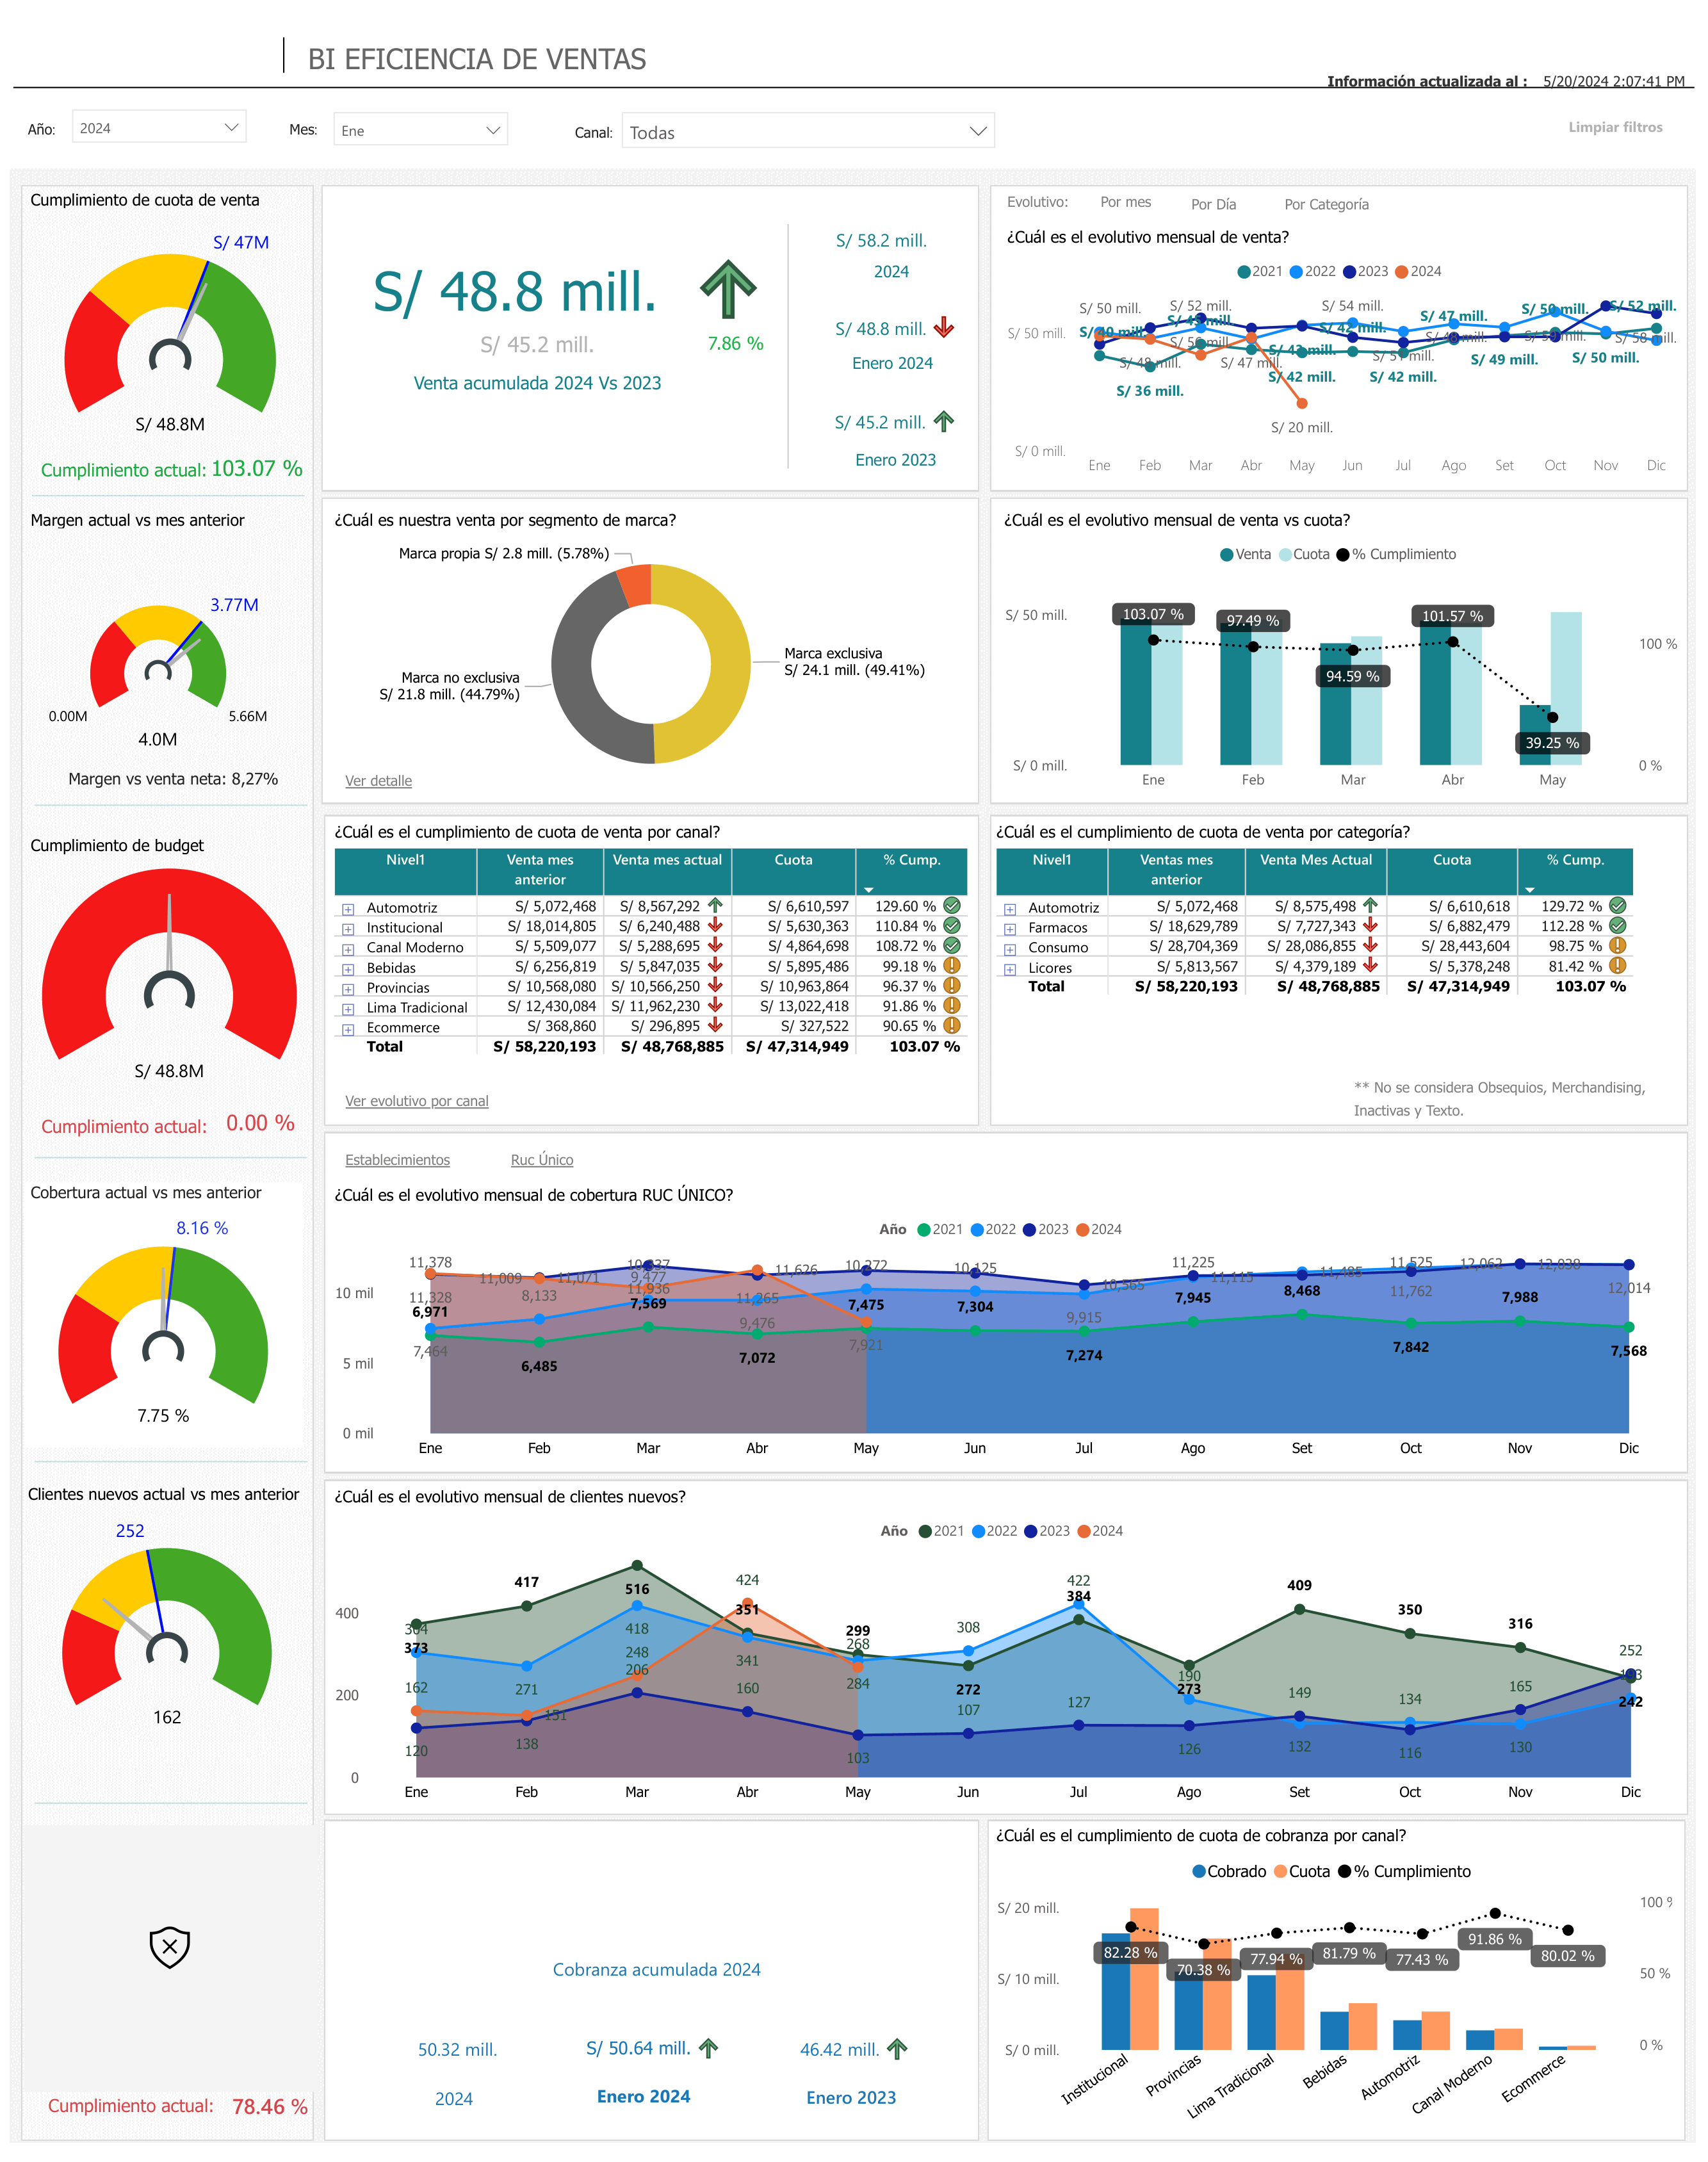

What the dashboard file says about the page in this screenshot:
{"tool":"powerbi","page":{"name":"BI eficiencia de ventas","canvas":[1280,1600],"ordinal":0},"visuals":[{"type":"card","fields":{"Values":["MedidasVentas.% Variacion Acum Año"]},"box":[508.6,223.4,87.2,51.1],"z":0},{"type":"donutChart","title":"¿Cuál es nuestra venta por segmento de marca?","fields":{"Category":["DimArticulo.Tipo Linea"],"Y":["MedidasVentas.Venta"]},"box":[245.6,372.6,484.1,215.9],"z":1000},{"type":"card","fields":{"Values":["MedidasVentas.AcumuladoHace1Año"]},"box":[332.4,229.3,142,40],"z":2000},{"type":"basicShape","box":[554.3,149,73.4,203.2],"z":3000},{"type":"Tachometer1474636471549","title":"Margen actual vs mes anterior","fields":{"EndValue":["MedidasMargen.End value_Vmargen"],"Range2StartValue":["MedidasMargen.Franja1_Vmargen"],"Range3StartValue":["MedidasMargen.Franja2_Vmargen"],"Y":["MedidasMargen.Margen"],"TargetValue":["MedidasMargen.Margen mes anterior"]},"box":[17,372.4,208.5,199],"z":4000},{"type":"textbox","box":[820.3,126.7,67,33],"z":5000},{"type":"shape","box":[217.8,362.4,12.9,213.9],"z":6000},{"type":"textbox","box":[957.6,127.7,117,33],"z":7000},{"type":"textbox","box":[887.4,127.7,61.7,33],"z":8000},{"type":"areaChart","title":"¿Cuál es el evolutivo mensual de venta?","fields":{"Category":["DimCalendario.Mes text","DimCalendario.Date.Variación.Jerarquía de fechas.Día1"],"Series":["DimCalendario.Año"],"Y":["MedidasVentas.Venta"]},"box":[749.1,160.7,511.8,195.8],"z":9000},{"type":"basicShape","box":[0,38.8,1280,35.2],"z":10000},{"type":"Tachometer5514746364715412990001","title":"Cumplimiento de cuota de cobranza","fields":{"TargetValue":["MedidasCobranza.Cuota cobranza"],"Y":["MedidasCobranza.Cobrado2"],"EndValue":["MedidasCobranza.End value_Vcuotacobranza"],"Range2StartValue":["MedidasCobranza.Franja1_CCOBRANZA_FC"],"Range3StartValue":["MedidasCobranza.Franja2_CCOBRANZA_FC"]},"box":[18.1,1358.7,220.2,200],"z":11000},{"type":"card","fields":{"Values":["MedidasTiempo.Año Actual cobranza"]},"box":[296.4,1444.3,393,48.6],"z":12000},{"type":"Tachometer1474636471549","title":"Cumplimiento de cuota de venta","fields":{"Y":["MedidasVentas.Venta"],"TargetValue":["MedidasVentas.Cuota Venta"],"EndValue":["MedidasVentas.End value"],"Range2StartValue":["MedidasVentas.Franja1_Vcuota"],"Range3StartValue":["MedidasVentas.Franja2_Vcuota"]},"box":[17,131.9,219.2,200],"z":13000},{"type":"textbox","box":[226.9,15.8,503.5,52.2],"z":15000},{"type":"shape","box":[820.3,122.4,56.4,38.3],"z":16000},{"type":"shape","box":[954.4,123.4,92.6,40.4],"z":17000},{"type":"tableEx","title":"Monto Cobrado","fields":{"Values":["MedidasVentas.Ventas mes actual"]},"box":[605.4,198,125,65.5],"z":18000},{"type":"tableEx","title":"Monto Cobrado","fields":{"Values":["MedidasVentas.Ventas mes anterior"]},"box":[586,132.2,134.7,65.5],"z":19000},{"type":"tableEx","title":"Monto Cobrado","fields":{"Values":["MedidasVentas.VentaMesHace1Año"]},"box":[592.1,268.1,138.3,75.2],"z":20000},{"type":"lineClusteredColumnComboChart","title":"¿Cuál es el cumplimiento de cuota de cobranza por canal?","fields":{"Category":["DimAgenteZona.Nivel1","DimAgenteZona.Nivel2"],"Y":["MedidasCobranza.Cobrado2","MedidasCobranza.Cuota cobranza"],"Y2":["MedidasCobranza.% CumplimientoCuotaCobranza"]},"box":[742.7,1358.7,516,233],"z":21000},{"type":"areaChart","title":"¿Cuál es el evolutivo mensual de clientes nuevos?","fields":{"Category":["DimCalendario.Mes text","DimCalendario.Date.Variación.Jerarquía de fechas.Día"],"Series":["DimCalendario.Año"],"Y":["MedidasClientes.ClientesNuevos"]},"box":[246.8,1103.5,1014.5,245.4],"z":23000},{"type":"Tachometer1474636471549","title":"Clientes nuevos actual vs mes anterior","fields":{"Y":["MedidasClientes.ClientesNuevos"],"EndValue":["MedidasClientes.End value_Vclientesnuevos"],"TargetValue":["MedidasClientes.ClientesNuevos mes anterior"],"Range2StartValue":["MedidasClientes.Franja1_Vclientesnuevos"],"Range3StartValue":["MedidasClientes.Franja2_Vclientesnuevos"]},"box":[17,1102.9,218.4,199],"z":24000},{"type":"tableEx","title":"Monto Cobrado","fields":{"Values":["MedidasCobranza.Cobrado2"]},"box":[427.1,1487.5,125,61.5],"z":25000},{"type":"tableEx","title":"Monto Cobrado","fields":{"Values":["MedidasCobranza.Cobrado mes anterior"]},"box":[277.9,1487.1,108.5,61.7],"z":26000},{"type":"tableEx","title":"Monto Cobrado","fields":{"Values":["MedidasCobranza.CobradoMesHace1AñoF"]},"box":[565.4,1487.1,132.2,63.1],"z":27000},{"type":"tableEx","title":"Monto Cobrado","fields":{"Values":["MedidasVentas.Ventas YTD CBH"]},"box":[244.1,150.2,387,89.8],"z":28000},{"type":"tableEx","fields":{"Values":["MedidasCobranza.Cobrado YTD"]},"box":[292.6,1359.9,405.8,108.8],"z":29000},{"type":"card","fields":{"Values":["MedidasTiempo.Mes actual"]},"box":[605.4,244.1,126.2,41.3],"z":30000},{"type":"card","fields":{"Values":["MedidasTiempo.Mes anterior"]},"box":[604.2,179.6,125,31.5],"z":31000},{"type":"card","fields":{"Values":["MedidasTiempo.Mes actual - 1 año"]},"box":[613.9,321.5,115.3,30.3],"z":32000},{"type":"card","fields":{"Values":["MedidasTiempo.Mes actual"]},"box":[419.8,1542.7,125,42.7],"z":33000},{"type":"card","fields":{"Values":["MedidasTiempo.Mes anterior"]},"box":[270.4,1549.9,137.3,29.8],"z":34000},{"type":"card","fields":{"Values":["MedidasTiempo.Mes actual - 1 año"]},"box":[564.9,1548.2,148.5,32],"z":35000},{"type":"card","fields":{"Values":["MedidasVentas.Tex cum ven act Rep"]},"box":[11.5,321.4,162.6,44.9],"z":36000},{"type":"card","fields":{"Values":["MedidasVentas.% Cump cuota de venta"]},"box":[142.7,311.6,101.3,61.4],"z":37000},{"type":"lineClusteredColumnComboChart","title":"¿Cuál es el evolutivo mensual de venta vs cuota?","fields":{"Category":["DimCalendario.Mes text"],"Y":["MedidasVentas.Venta","MedidasVentas.Cuota Venta SeleRepre"],"Y2":["MedidasVentas.% Cump cuota de venta"]},"box":[747.4,371.3,514.4,219.6],"z":38000},{"type":"card","fields":{"Values":["MedidasCobranza.Tex cum ccobranza_fc"]},"box":[19.6,1557,157.1,28.4],"z":39000},{"type":"card","fields":{"Values":["MedidasCobranza.% CumplimientoCuotaCobranza"]},"box":[152.4,1539.4,101.6,61],"z":40000},{"type":"image","box":[1.2,1.2,217.2,54.6],"z":41000},{"type":"pivotTable","title":"¿Cuál es el cumplimiento de cuota de venta por categoría?","fields":{"Rows":["DimArticulo.Nivel1","DimArticulo.Nivel2","DimArticulo.Nivel3","DimArticulo.Nivel4","DimArticulo.Nivel5","DimArticulo.Nivel6"],"Values":["MedidasVentas.Ventas mes anteriorF","MedidasVentas.Venta","MedidasVentas.Cuota Venta","MedidasVentas.% Cump cuota de venta"]},"box":[741.6,605.4,519.2,185.1],"z":42000},{"type":"basicShape","box":[14.9,344.7,224.5,35.1],"z":43000},{"type":"basicShape","box":[16,576.7,224.5,35.1],"z":44000},{"type":"basicShape","box":[15.3,839.5,224.1,35.3],"z":45000},{"type":"basicShape","box":[15.1,1069,224.5,35.1],"z":46000},{"type":"basicShape","box":[16.1,1324.3,224.5,35.1],"z":47000},{"type":"slicer","fields":{"Values":["DimCalendario.Año"]},"box":[43.6,62.8,151.1,51.1],"z":48000},{"type":"slicer","fields":{"Values":["DimCalendario.Last Business Date"]},"box":[240.5,63.8,151.1,50],"z":49000},{"type":"textbox","box":[1151.3,70.2,118.1,33],"z":50000},{"type":"basicShape","box":[176.4,8.5,73.4,46.6],"z":51000},{"type":"textbox","box":[16,71.4,58.5,31.9],"z":52000},{"type":"textbox","box":[212.8,71.4,58.5,31.9],"z":53000},{"type":"textbox","box":[253.2,800.1,138.3,31.9],"z":54000},{"type":"textbox","box":[253.2,843.8,103.2,31.9],"z":55000},{"type":"textbox","box":[378.9,843.2,103.3,33.1],"z":56000},{"type":"shape","box":[243.9,839.1,113,35.8],"z":57000},{"type":"areaChart","title":"¿Cuál es el evolutivo mensual de cobertura RUC ÚNICO?","fields":{"Category":["DimCalendario.Mes text","DimCalendario.Date.Variación.Jerarquía de fechas.Día"],"Series":["DimCalendario.Año"],"Y":["MedidasClientes.Cobertura Ruc Unico"]},"box":[246.6,877.7,1012.7,213.6],"z":58000},{"type":"shape","box":[361.6,843.2,112.8,36.4],"z":59000},{"type":"shape","box":[886.3,117,52.1,42.6],"z":61000},{"type":"textbox","box":[749.1,126.7,71.3,33],"z":62000},{"type":"card","fields":{"Values":["MedidasMargen.% Margen"]},"box":[34.7,556.4,192.1,39.6],"z":63000},{"type":"shape","box":[1115.1,68.1,154.3,35.1],"z":64000},{"type":"pivotTable","title":"¿Cuál es el cumplimiento de cuota de venta por canal?","fields":{"Rows":["DimZonaAgente.Nivel1","DimZonaAgente.Nivel2","DimZonaAgente.Nivel3","DimZonaAgente.Nivel4"],"Values":["MedidasVentas.Ventas mes anteriorF","MedidasVentas.Venta","MedidasVentas.Cuota Venta","MedidasVentas.% Cump cuota de venta"]},"box":[247,605.4,489.7,184.9],"z":65000},{"type":"Tachometer1474636471549","title":"Cobertura actual vs mes anterior","fields":{"Y":["MedidasClientes.% cobertura x zona"],"TargetValue":["MedidasClientes.Cobertura mes anterior"],"Range2StartValue":["MedidasClientes.Franja1_Vcobertura"],"Range3StartValue":["MedidasClientes.Franja2_Vcobertura"]},"box":[17,876,208.7,199],"z":66000},{"type":"card","fields":{"Values":["MedidasTiempo.Año Actual"]},"box":[252.4,249.9,302.1,58.2],"z":67000},{"type":"Tachometer1474636471549","title":"Cumplimiento de budget","fields":{"Y":["MedidasVentas.Venta"],"TargetValue":["MedidasVentas.Budget"],"EndValue":["MedidasVentas.End value Budget"],"Range2StartValue":["MedidasVentas.Franja1 Budget"],"Range3StartValue":["MedidasVentas.Franja 2 Budget"]},"box":[17,615.4,217.9,201.1],"z":68000},{"type":"card","fields":{"Values":["MedidasVentas.Tex cum ven act Rep"]},"box":[11.5,813.4,162.7,44.5],"z":69000},{"type":"card","fields":{"Values":["MedidasVentas.% Cump de budget"]},"box":[143.9,803,103,62.1],"z":70000},{"type":"textbox","box":[1010.6,790.8,269.4,50.9],"z":71000},{"type":"shape","box":[244.7,794.8,154.3,35.1],"z":72000},{"type":"textbox","box":[253.2,559.7,138.3,31.9],"z":73000},{"type":"shape","box":[244.1,554.6,155.2,33.9],"z":74000},{"type":"shape","box":[705.9,133.7,22.8,233.7],"z":75000},{"type":"shape","box":[713.5,1350,21.9,236.5],"z":76000},{"type":"slicer","fields":{"Values":["DimZonaAgente.Nivel1","DimZonaAgente.Nivel2","DimZonaAgente.Nivel3","DimZonaAgente.Nivel4"]},"box":[455.4,63.4,300,43.6],"z":77000},{"type":"textbox","box":[425.7,73.3,58.4,31.7],"z":78000},{"type":"textbox","box":[990,35.2,163.8,52.2],"z":79000},{"type":"card","fields":{"Values":["Min(FechaRefresh.Column1)"]},"box":[1142.9,35.2,135.9,35.2],"z":80000}]}

Visuals, with their boxes in screenshot pixels (x1, y1, x2, y2), scaled from the page's 1280x1600 canvas onto the 1708x2162 screenshot:
card - MedidasVentas.% Variacion Acum Año: bbox=(679, 302, 795, 371)
"¿Cuál es nuestra venta por segmento de marca?" donutChart: bbox=(328, 503, 973, 795)
card - MedidasVentas.AcumuladoHace1Año: bbox=(444, 310, 633, 364)
basicShape: bbox=(740, 201, 838, 476)
"Margen actual vs mes anterior" Tachometer1474636471549: bbox=(22, 503, 301, 772)
textbox: bbox=(1094, 171, 1184, 216)
shape: bbox=(291, 490, 308, 779)
textbox: bbox=(1278, 172, 1434, 217)
textbox: bbox=(1184, 172, 1267, 217)
"¿Cuál es el evolutivo mensual de venta?" areaChart: bbox=(1000, 217, 1682, 482)
basicShape: bbox=(0, 53, 1707, 100)
"Cumplimiento de cuota de cobranza" Tachometer5514746364715412990001: bbox=(24, 1836, 318, 2106)
card - MedidasTiempo.Año Actual cobranza: bbox=(396, 1951, 920, 2017)
"Cumplimiento de cuota de venta" Tachometer1474636471549: bbox=(22, 178, 315, 448)
textbox: bbox=(303, 21, 975, 92)
shape: bbox=(1094, 165, 1170, 217)
shape: bbox=(1274, 167, 1397, 222)
"Monto Cobrado" tableEx: bbox=(808, 268, 975, 356)
"Monto Cobrado" tableEx: bbox=(782, 179, 962, 267)
"Monto Cobrado" tableEx: bbox=(790, 362, 975, 464)
"¿Cuál es el cumplimiento de cuota de cobranza por canal?" lineClusteredColumnComboChart: bbox=(991, 1836, 1680, 2150)
"¿Cuál es el evolutivo mensual de clientes nuevos?" areaChart: bbox=(329, 1491, 1683, 1823)
"Clientes nuevos actual vs mes anterior" Tachometer1474636471549: bbox=(22, 1490, 314, 1759)
"Monto Cobrado" tableEx: bbox=(570, 2010, 736, 2093)
"Monto Cobrado" tableEx: bbox=(371, 2010, 516, 2093)
"Monto Cobrado" tableEx: bbox=(754, 2010, 931, 2095)
"Monto Cobrado" tableEx: bbox=(326, 203, 842, 324)
tableEx - MedidasCobranza.Cobrado YTD: bbox=(391, 1837, 932, 1985)
card - MedidasTiempo.Mes actual: bbox=(808, 330, 976, 386)
card - MedidasTiempo.Mes anterior: bbox=(806, 243, 973, 285)
card - MedidasTiempo.Mes actual - 1 año: bbox=(819, 434, 973, 475)
card - MedidasTiempo.Mes actual: bbox=(560, 2085, 727, 2142)
card - MedidasTiempo.Mes anterior: bbox=(361, 2094, 544, 2134)
card - MedidasTiempo.Mes actual - 1 año: bbox=(754, 2092, 952, 2135)
card - MedidasVentas.Tex cum ven act Rep: bbox=(15, 434, 232, 495)
card - MedidasVentas.% Cump cuota de venta: bbox=(190, 421, 325, 504)
"¿Cuál es el evolutivo mensual de venta vs cuota?" lineClusteredColumnComboChart: bbox=(997, 501, 1684, 799)
card - MedidasCobranza.Tex cum ccobranza_fc: bbox=(26, 2104, 236, 2142)
card - MedidasCobranza.% CumplimientoCuotaCobranza: bbox=(204, 2080, 339, 2161)
image: bbox=(2, 2, 291, 76)
"¿Cuál es el cumplimiento de cuota de venta por categoría?" pivotTable: bbox=(989, 818, 1682, 1068)
basicShape: bbox=(20, 466, 320, 513)
basicShape: bbox=(21, 779, 321, 827)
basicShape: bbox=(20, 1134, 320, 1182)
basicShape: bbox=(20, 1445, 320, 1492)
basicShape: bbox=(22, 1789, 321, 1837)
slicer - DimCalendario.Año: bbox=(58, 85, 260, 154)
slicer - DimCalendario.Last Business Date: bbox=(321, 86, 523, 154)
textbox: bbox=(1536, 95, 1694, 140)
basicShape: bbox=(236, 12, 333, 74)
textbox: bbox=(21, 97, 99, 140)
textbox: bbox=(284, 97, 362, 140)
textbox: bbox=(338, 1081, 523, 1125)
textbox: bbox=(338, 1140, 476, 1183)
textbox: bbox=(505, 1139, 644, 1184)
shape: bbox=(325, 1134, 476, 1182)
"¿Cuál es el evolutivo mensual de cobertura RUC ÚNICO?" areaChart: bbox=(329, 1186, 1680, 1475)
shape: bbox=(482, 1139, 633, 1189)
shape: bbox=(1183, 158, 1252, 216)
textbox: bbox=(1000, 171, 1094, 216)
card - MedidasMargen.% Margen: bbox=(46, 752, 303, 806)
shape: bbox=(1488, 92, 1694, 140)
"¿Cuál es el cumplimiento de cuota de venta por canal?" pivotTable: bbox=(330, 818, 983, 1068)
"Cobertura actual vs mes anterior" Tachometer1474636471549: bbox=(22, 1183, 301, 1452)
card - MedidasTiempo.Año Actual: bbox=(337, 337, 740, 416)
"Cumplimiento de budget" Tachometer1474636471549: bbox=(22, 831, 313, 1103)
card - MedidasVentas.Tex cum ven act Rep: bbox=(15, 1099, 232, 1159)
card - MedidasVentas.% Cump de budget: bbox=(192, 1085, 329, 1169)
textbox: bbox=(1349, 1069, 1707, 1137)
shape: bbox=(327, 1074, 532, 1121)
textbox: bbox=(338, 756, 523, 799)
shape: bbox=(326, 749, 533, 795)
shape: bbox=(942, 181, 972, 496)
shape: bbox=(952, 1824, 981, 2144)
slicer - DimZonaAgente.Nivel1 x DimZonaAgente.Nivel2: bbox=(608, 86, 1008, 145)
textbox: bbox=(568, 99, 646, 142)
textbox: bbox=(1321, 47, 1540, 118)
card - Min(FechaRefresh.Column1): bbox=(1525, 47, 1706, 95)
